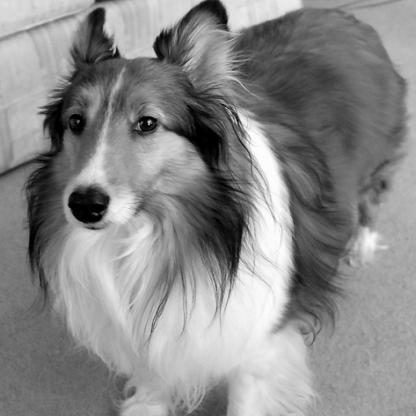Shetland_sheepdog: (22, 0, 413, 414)
